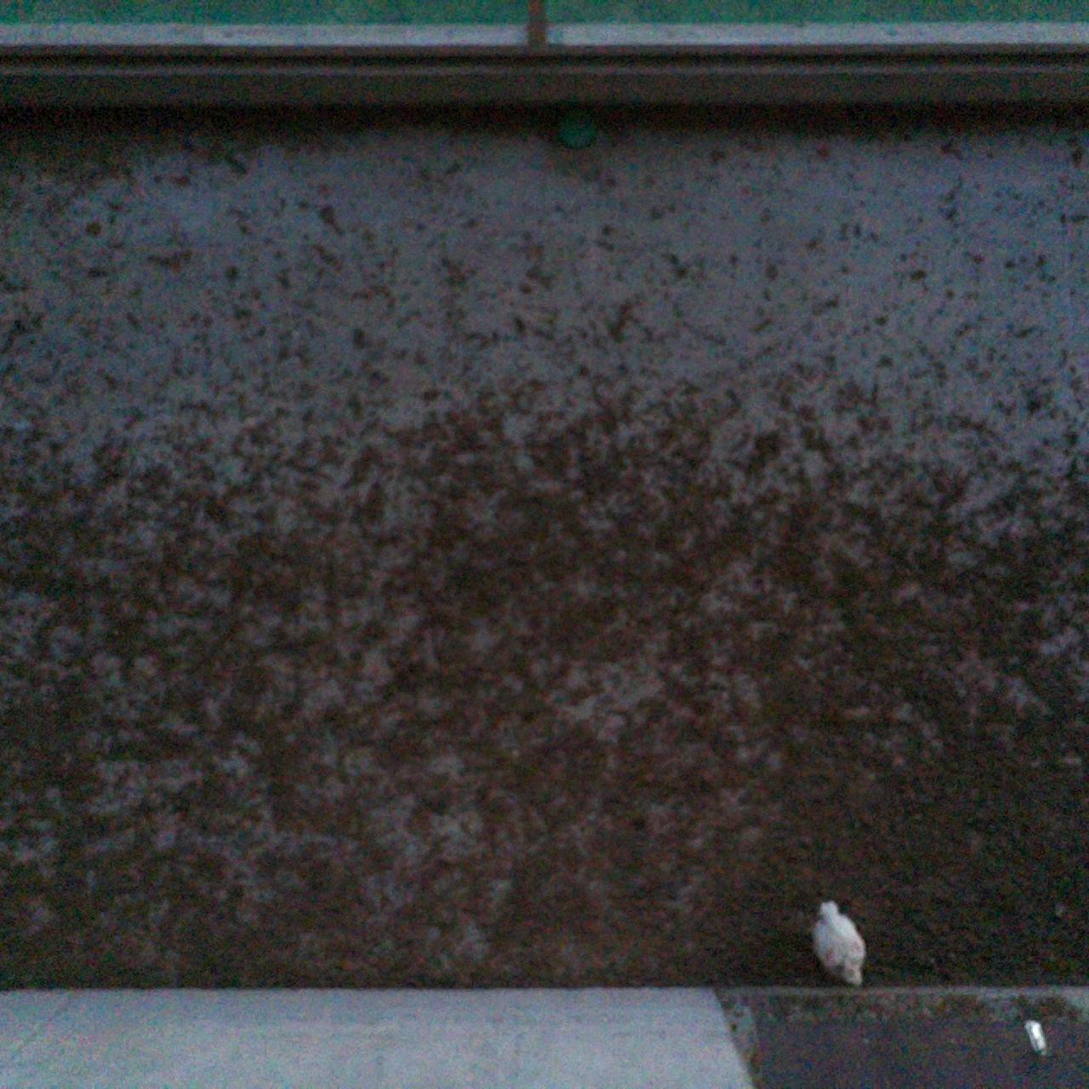chicken: (805, 892, 873, 992)
